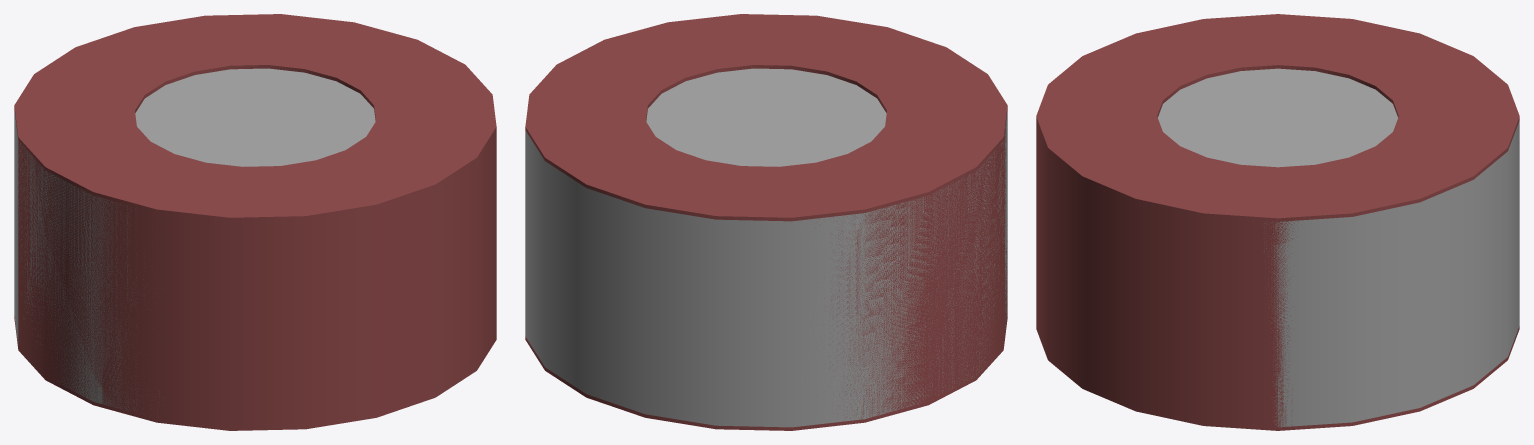
3 views of the same model, side by side, from view 1: azimuth 30°, elevation 25°; view 2: azimuth 150°, elevation 25°; view 3: azimuth 270°, elevation 25° (orthographic).
Parts seen in each view (by area): view 1: pPipe1, pCylinder1_phys; view 2: pCylinder1_phys, pPipe1; view 3: pPipe1, pCylinder1_phys.
Part boxes in pixels (<box>): pPipe1: <box>14,14,496,430</box>; pCylinder1_phys: <box>14,68,375,416</box>; pCylinder1_phys: <box>525,68,1007,427</box>; pPipe1: <box>525,14,1007,430</box>; pPipe1: <box>1036,14,1519,430</box>; pCylinder1_phys: <box>1158,68,1519,427</box>.
Size of the model in its own units: 8.74 by 4.24 by 8.74.
